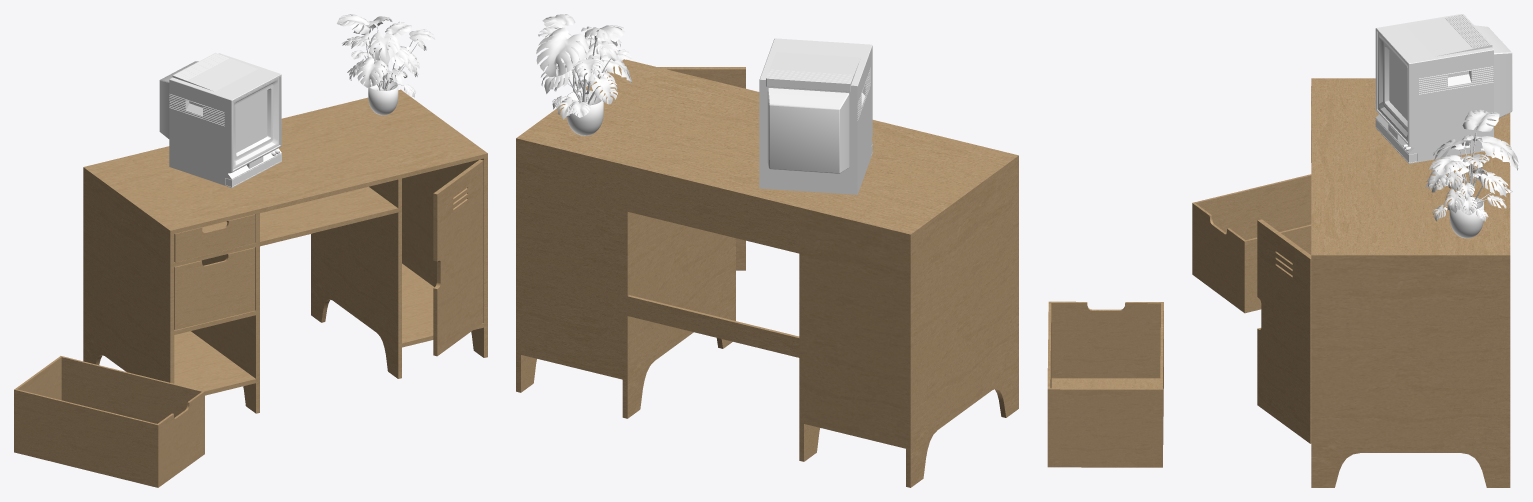
File: desk_recurso1.gltf
3 renders of one model, left to right at view 1: azimuth 30°, elevation 25°; view 2: azimuth 150°, elevation 25°; view 3: azimuth 270°, elevation 25°, orthographic. The views are drawn at different scales.
Parts seen in each view (by area): view 1: deskBox, deskBottomDrawer, PC, deskDoor, deskMiddleDrawer, Leaves, deskTopDrawer, Pot_LP; view 2: deskBox, deskBottomDrawer, PC, Leaves, deskDoor, Pot_LP; view 3: deskBox, PC, deskDoor, deskBottomDrawer, Leaves, Pot_LP, root_HP_1.
Part boxes in pixels (left/top/right/bottom): deskBox: left=83, top=89, right=487, bottom=413; deskBottomDrawer: left=14, top=356, right=204, bottom=487; PC: left=159, top=52, right=281, bottom=187; deskDoor: left=433, top=159, right=483, bottom=356; deskMiddleDrawer: left=174, top=247, right=255, bottom=329; Leaves: left=337, top=14, right=435, bottom=97; deskTopDrawer: left=174, top=214, right=255, bottom=262; Pot_LP: left=368, top=78, right=398, bottom=115; deskBox: left=516, top=59, right=1018, bottom=487; deskBottomDrawer: left=1047, top=301, right=1163, bottom=467; PC: left=759, top=38, right=872, bottom=194; Leaves: left=536, top=14, right=631, bottom=119; deskDoor: left=657, top=67, right=745, bottom=270; Pot_LP: left=566, top=90, right=603, bottom=135; deskBox: left=1311, top=78, right=1510, bottom=487; PC: left=1375, top=14, right=1512, bottom=163; deskDoor: left=1257, top=219, right=1311, bottom=443; deskBottomDrawer: left=1192, top=174, right=1311, bottom=313; Leaves: left=1425, top=109, right=1518, bottom=221; Pot_LP: left=1449, top=196, right=1483, bottom=238; root_HP_1: left=1445, top=124, right=1496, bottom=210.
Size of the model in its own units: 173 by 108 by 93.62.
9 materials, 5 textured.
